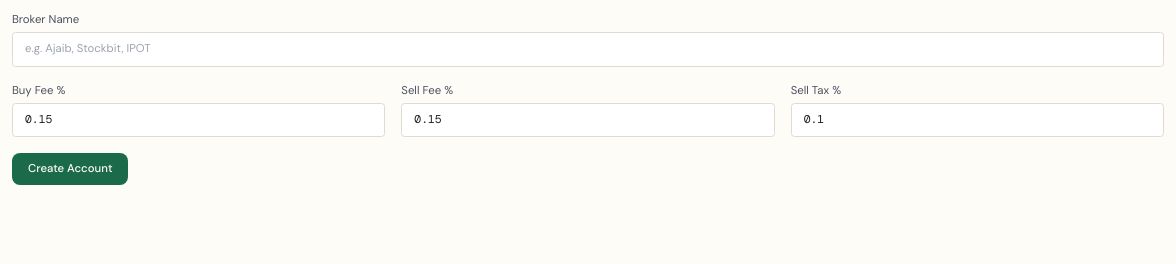
Test case: BrokerageAccountForm › shows error when name is empty
The image size is (1176, 264).
Click the button "Create Account". click: {"x": 70, "y": 169}
box: [12,153,128,185]
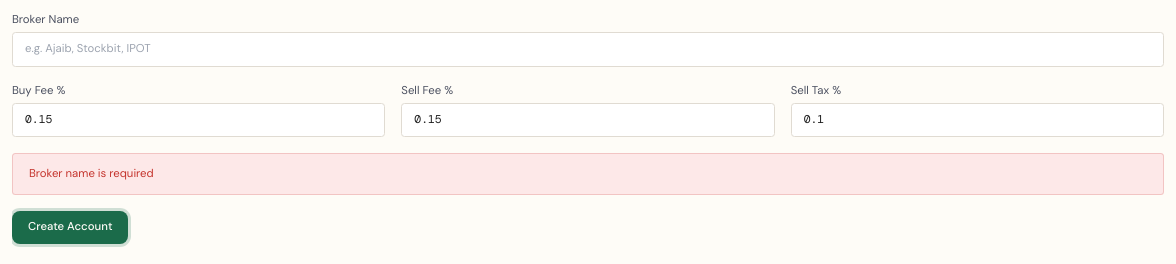
Check: the message reads "Broker name is required", box [29,166,154,181]
